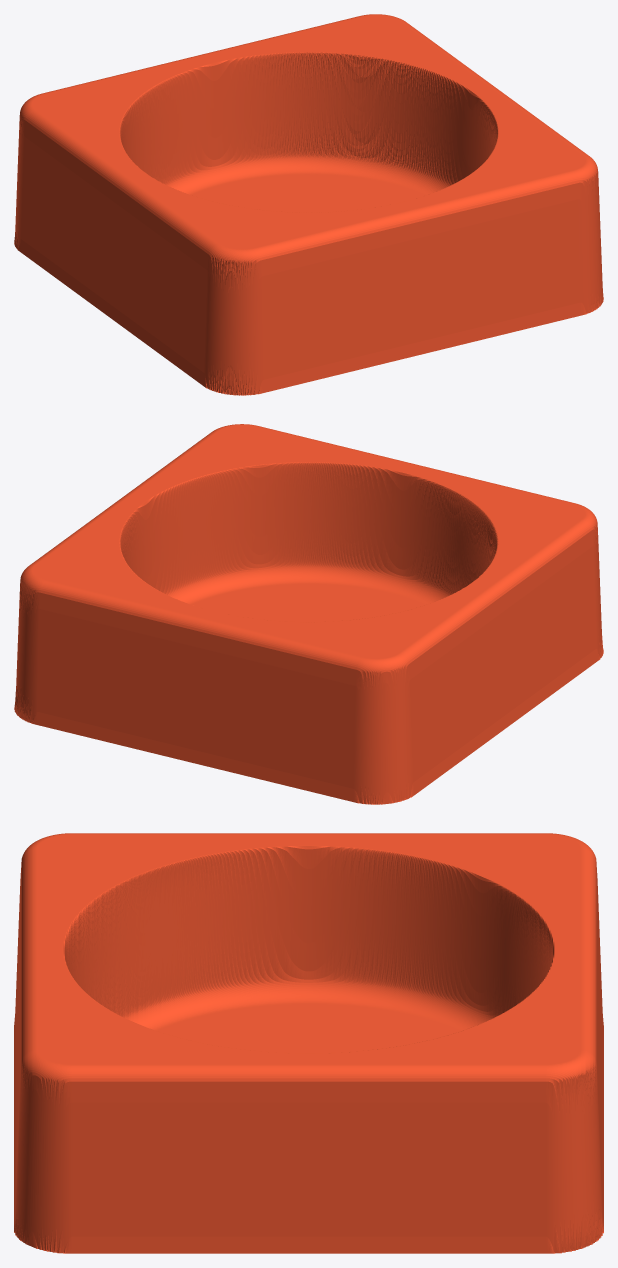
The model's file is mold.glb.
3 views of the same model, one above another, from view 1: azimuth 30°, elevation 25°; view 2: azimuth 150°, elevation 25°; view 3: azimuth 270°, elevation 25° (orthographic). The views are drawn at different scales.
Visible parts, largest first — view 1: geometry_0; view 2: geometry_0; view 3: geometry_0.
Boxes of the visible parts, x1=… form: geometry_0: x1=14, y1=14, x2=603, y2=395; geometry_0: x1=14, y1=424, x2=603, y2=804; geometry_0: x1=14, y1=833, x2=603, y2=1253.
Size of the model in its own units: 0.0924 by 0.031 by 0.0924.
